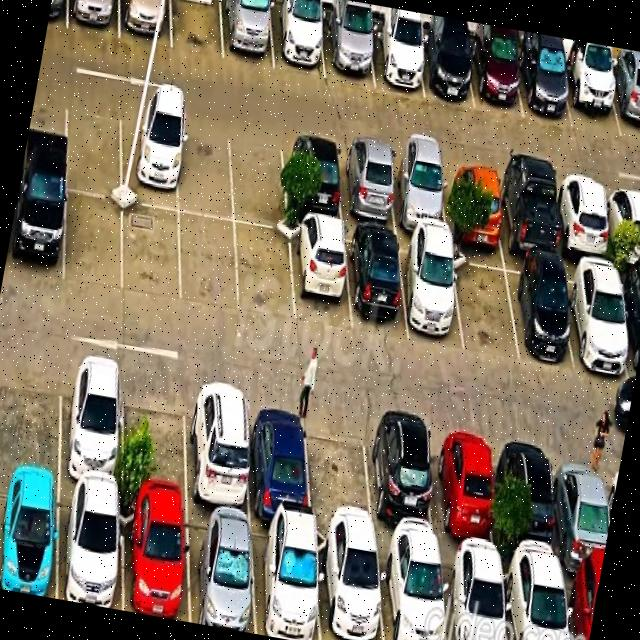empty: (306, 403, 374, 538), (124, 367, 188, 506), (0, 346, 61, 480), (451, 249, 518, 360), (229, 124, 287, 231), (64, 191, 123, 291), (123, 202, 180, 305), (179, 213, 238, 312), (235, 224, 294, 322), (66, 93, 121, 198), (178, 115, 233, 219), (171, 0, 223, 59)
occupied: (365, 412, 438, 549), (430, 421, 496, 560), (185, 508, 256, 634), (59, 354, 122, 493), (187, 379, 250, 517), (247, 390, 311, 525), (121, 496, 189, 622), (501, 432, 562, 568), (251, 520, 320, 640), (57, 484, 122, 610), (562, 261, 630, 376), (553, 441, 610, 574), (316, 530, 384, 640), (504, 256, 573, 364), (398, 237, 463, 350), (0, 475, 59, 598), (345, 227, 408, 337), (290, 219, 351, 330), (377, 544, 446, 640), (4, 177, 66, 282), (120, 104, 178, 210), (440, 551, 507, 640), (495, 168, 559, 259), (442, 159, 503, 248), (282, 133, 343, 222), (501, 561, 568, 640), (388, 149, 448, 236), (559, 53, 621, 137), (338, 142, 397, 229), (553, 176, 611, 262), (516, 42, 572, 127), (468, 34, 523, 117), (417, 30, 474, 107), (269, 0, 325, 78), (368, 21, 424, 97), (322, 12, 374, 85), (221, 0, 274, 69), (604, 183, 640, 266), (604, 60, 640, 140), (562, 569, 600, 640), (616, 269, 640, 381), (119, 0, 171, 47), (67, 0, 119, 38)
